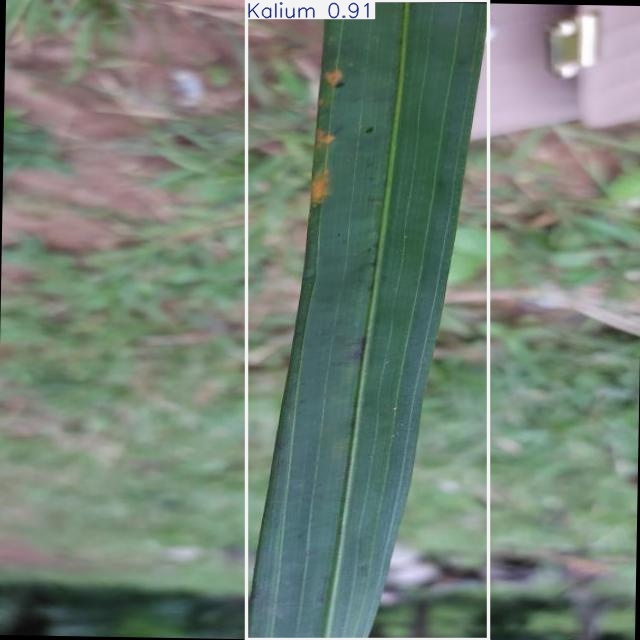Kalium: (246, 0, 488, 640)
